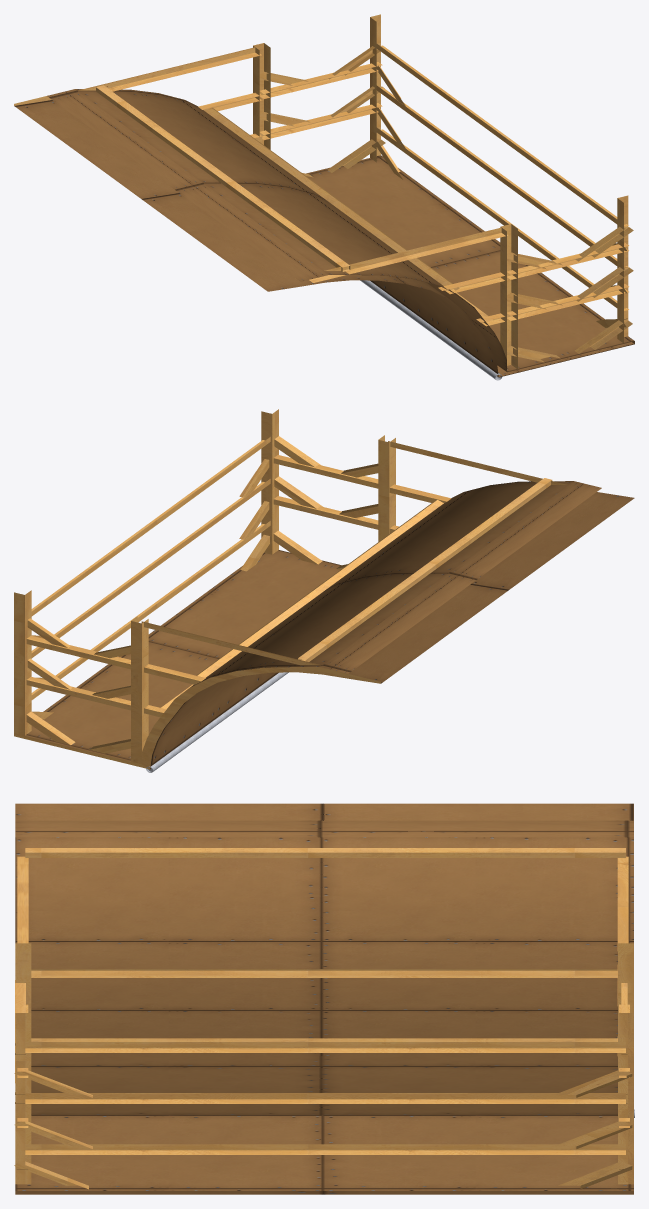
Rendered from ramp.fbx.
3 renders of one model, top to bottom at view 1: azimuth 30°, elevation 25°; view 2: azimuth 150°, elevation 25°; view 3: azimuth 270°, elevation 25°, orthographic. The views are drawn at different scales.
Parts seen in each view (by area): view 1: ramp; view 2: ramp; view 3: ramp.
Part boxes in pixels (x1,y1,x2,y2): ramp: [14, 14, 634, 380]; ramp: [14, 409, 634, 772]; ramp: [14, 803, 634, 1194].
Bounding box in the file's own units: 392 × 150 × 471.
